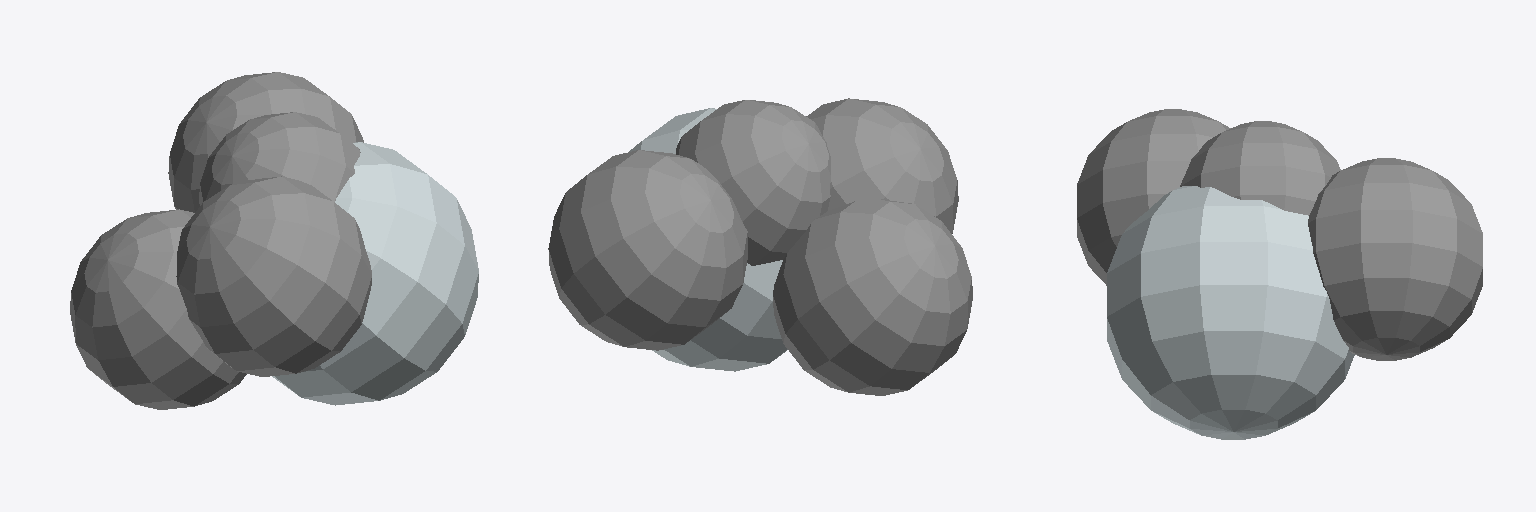
The picture shows the model from 3 angles: view 1: azimuth 30°, elevation 25°; view 2: azimuth 150°, elevation 25°; view 3: azimuth 270°, elevation 25°; orthographic projection.
Parts seen in each view (by area): view 1: bubbles6_group[number redacted]; view 2: bubbles6_group[number redacted]; view 3: bubbles6_group[number redacted].
Part boxes in pixels (left/top/right/bottom): bubbles6_group[number redacted]: left=70, top=72, right=478, bottom=409; bubbles6_group[number redacted]: left=548, top=98, right=972, bottom=395; bubbles6_group[number redacted]: left=1077, top=109, right=1482, bottom=439.
Bounding box in the file's own units: 0.5259 × 0.3762 × 0.5096.